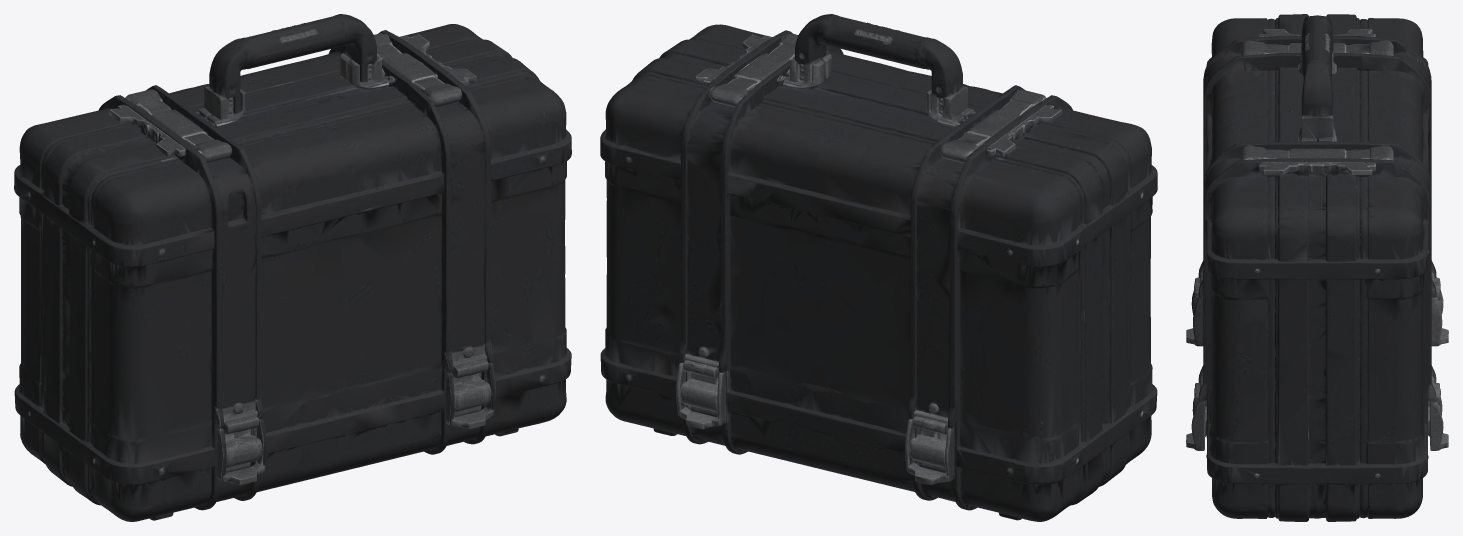
The model's file is case.glb.
3 renders of one model, left to right at view 1: azimuth 30°, elevation 25°; view 2: azimuth 150°, elevation 25°; view 3: azimuth 270°, elevation 25°, orthographic. The views are drawn at different scales.
Bounding box in the file's own units: 1.9 × 1.65 × 0.9961.
1 material, 1 textured.
